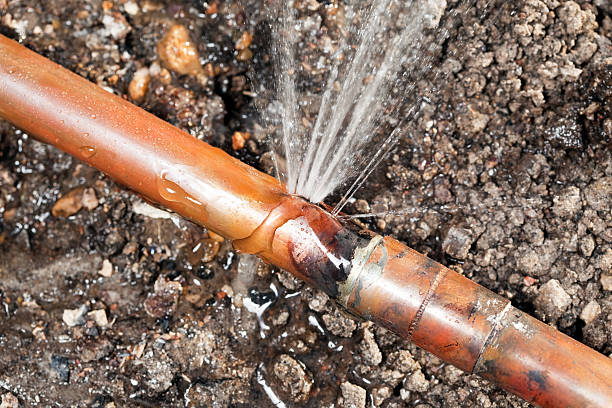rupture: (279, 187, 350, 226)
